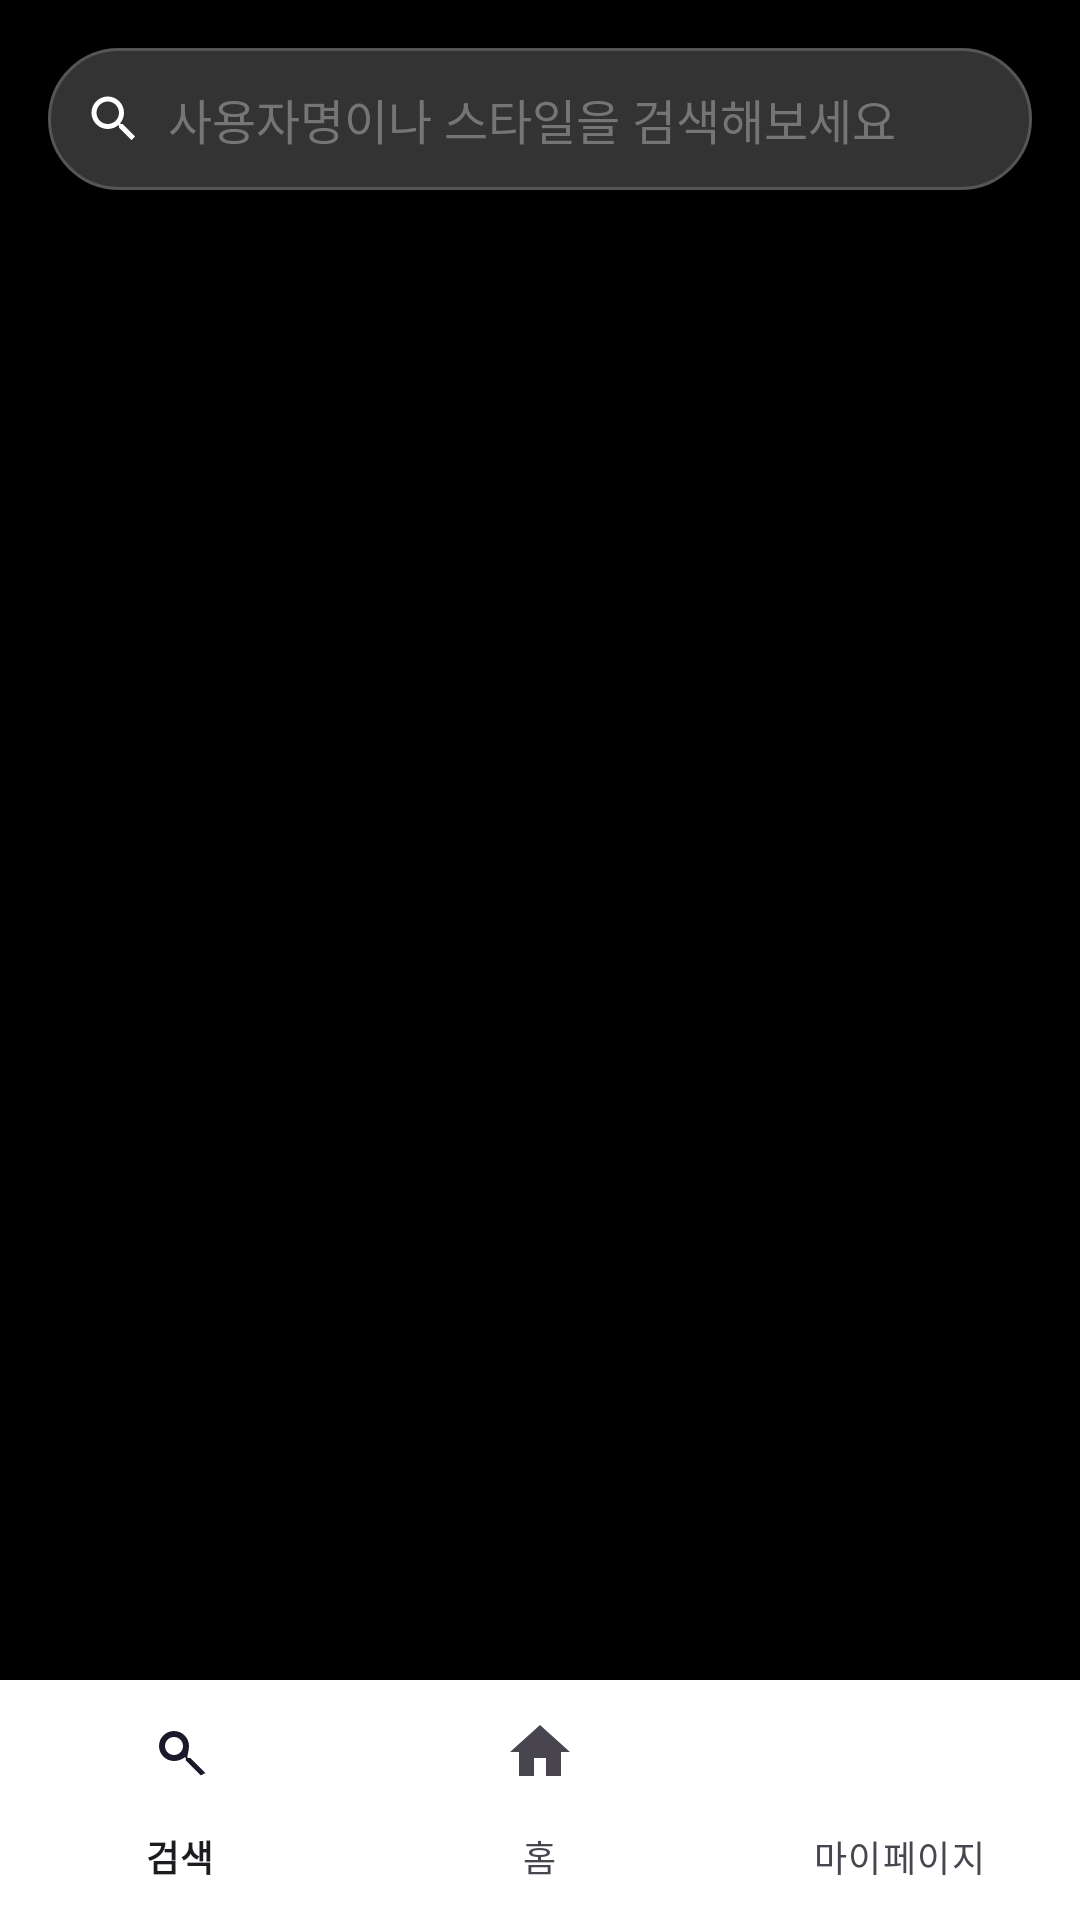

Locate icon controls on the screen. Image size 1080*1920, boxes as (x1, y1, x2, y2).
검색 아이콘: (91, 96, 135, 140)
